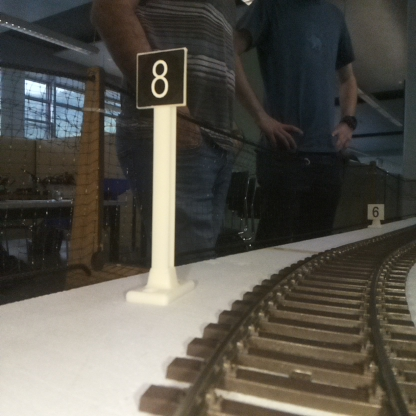black-info-8: (137, 49, 183, 300)
white-stop-6: (367, 203, 383, 229)
